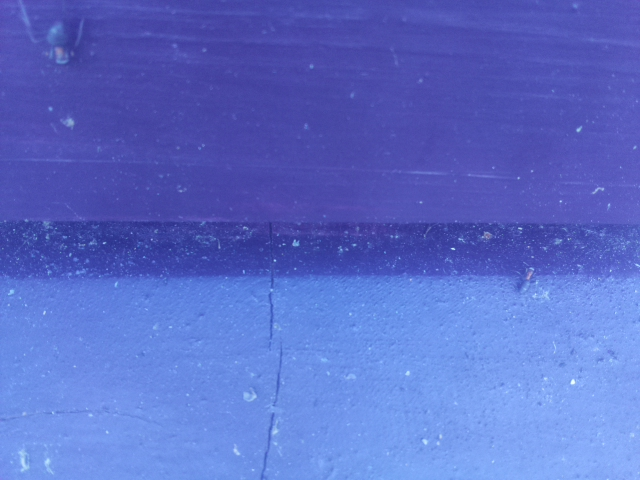ant: (43, 18, 74, 70), (520, 261, 537, 295)
